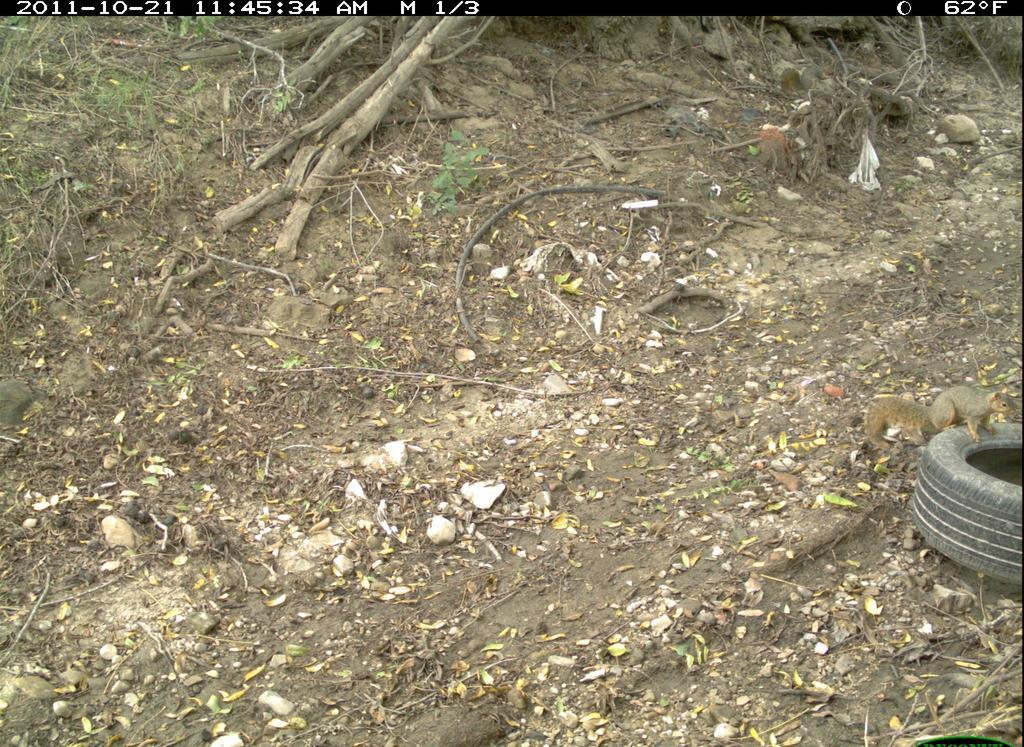squirrel: (862, 374, 1021, 450)
